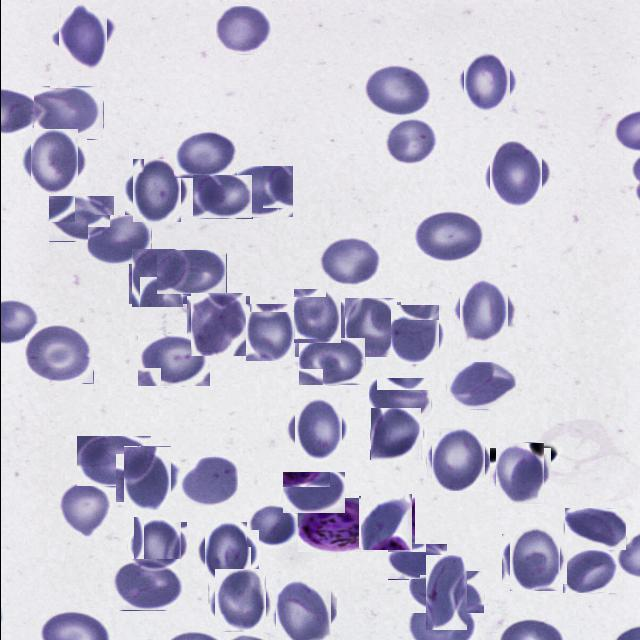red blood cell: (24, 324, 93, 384), (360, 64, 434, 118), (412, 208, 483, 263), (137, 334, 210, 387), (112, 559, 185, 611), (484, 145, 545, 207), (33, 86, 103, 140), (76, 436, 150, 486), (222, 166, 293, 218), (188, 294, 248, 354), (272, 582, 333, 640), (428, 429, 486, 488), (416, 563, 475, 621), (54, 8, 112, 66), (210, 572, 268, 630), (446, 362, 516, 410), (505, 530, 562, 588), (298, 338, 365, 386), (87, 215, 151, 265), (156, 250, 226, 295), (455, 282, 511, 338), (290, 402, 346, 458), (342, 300, 398, 356), (128, 163, 184, 219), (318, 238, 381, 287), (119, 450, 174, 506), (129, 250, 184, 306), (26, 133, 81, 189), (57, 482, 110, 540), (179, 456, 238, 508), (48, 196, 114, 242), (459, 54, 514, 109), (492, 444, 546, 500), (173, 130, 236, 178), (200, 526, 254, 580), (130, 519, 184, 573), (388, 308, 442, 362), (359, 494, 413, 548), (369, 408, 422, 461), (215, 6, 272, 55), (368, 378, 431, 422), (243, 306, 296, 358), (291, 290, 343, 342), (381, 118, 436, 167), (282, 472, 345, 514), (192, 175, 252, 219), (564, 508, 625, 550), (562, 550, 616, 593), (387, 544, 447, 580), (246, 503, 294, 547)
trophozoite: (297, 498, 372, 552)
